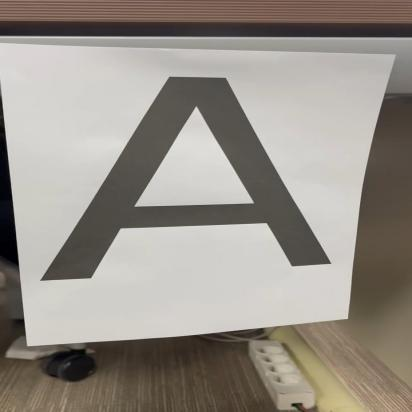seat: (30, 60, 351, 302)
